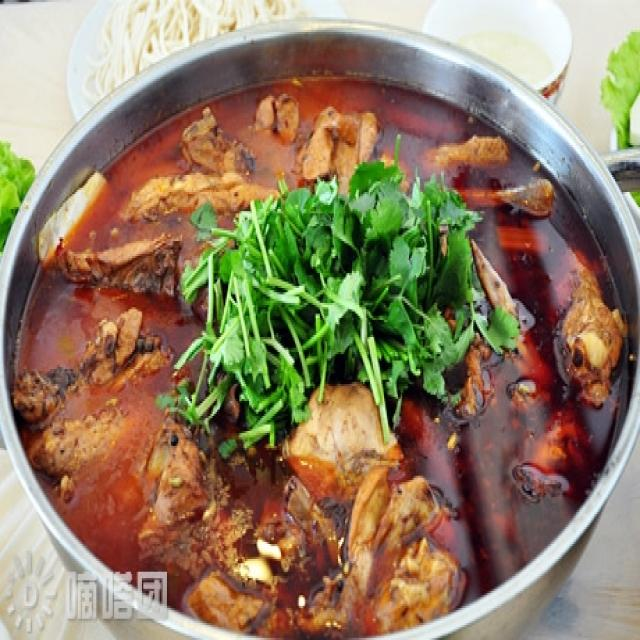汤锅炖物: (11, 32, 629, 621)
